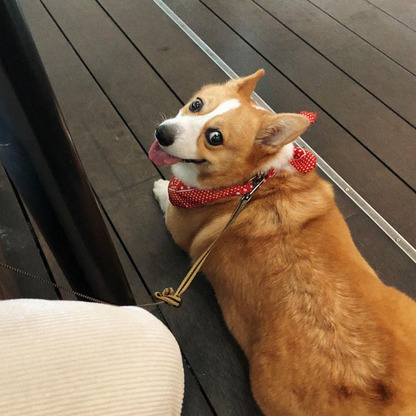Corgi: (148, 55, 379, 392)
